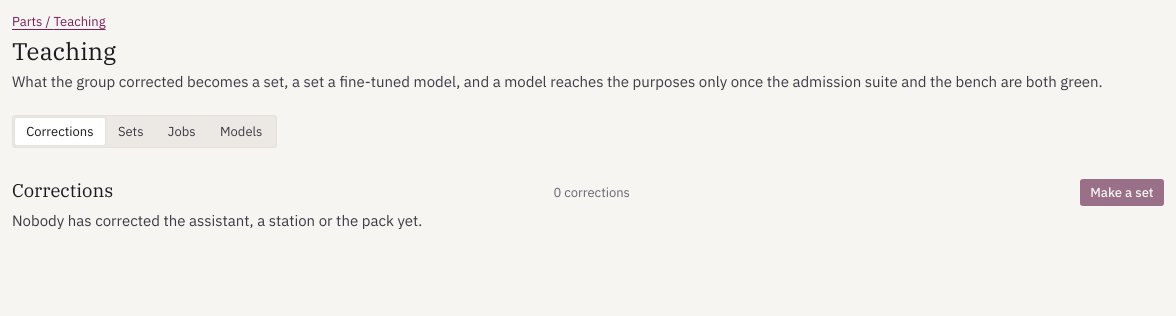
it: the Teaching page › falls back to the person's own jobs from the inbox where the assistant has no jobs door
This screenshot has width=1176, height=316.
Click the tab "Jobs" at (182, 132), box x1=157 y1=118 x2=207 y2=145
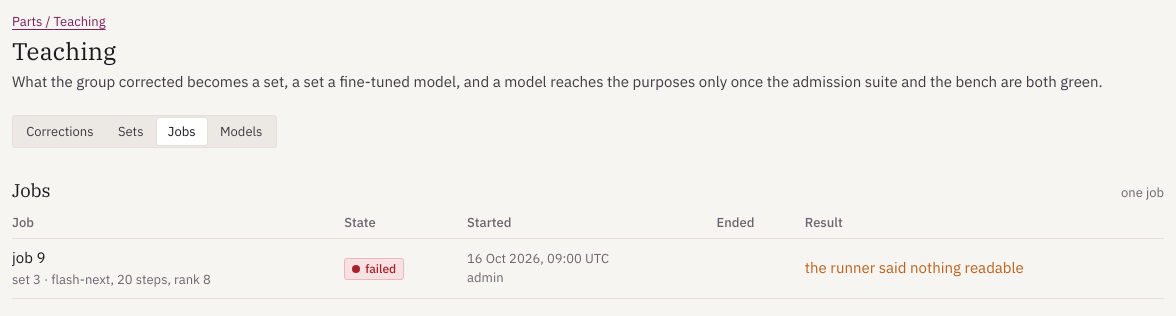
Result: the text "job 9" is shown at x1=12 y1=238 x2=334 y2=299
Result: the text "the runner said nothing readable" is shown at x1=795 y1=238 x2=1164 y2=299
